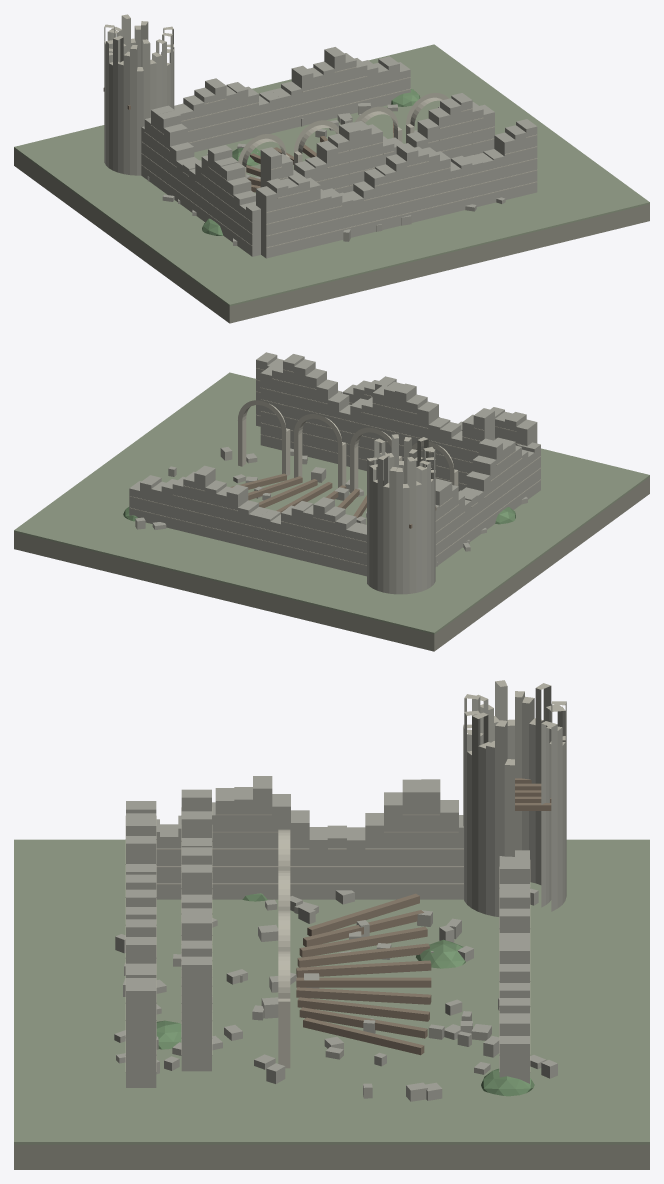
The model's file is ruin-2.glb.
3 renders of one model, top to bottom at view 1: azimuth 30°, elevation 25°; view 2: azimuth 150°, elevation 25°; view 3: azimuth 270°, elevation 25°, orthographic. The views are drawn at different scales.
Parts seen in each view (by area): view 1: تالار متروک; view 2: تالار متروک; view 3: تالار متروک.
Boxes of the visible parts, x1,y1,x2,y2 form: تالار متروک: (14, 14, 649, 323); تالار متروک: (14, 352, 649, 651); تالار متروک: (14, 680, 649, 1169).
Bounding box in the file's own units: 9 × 3.1 × 8.
